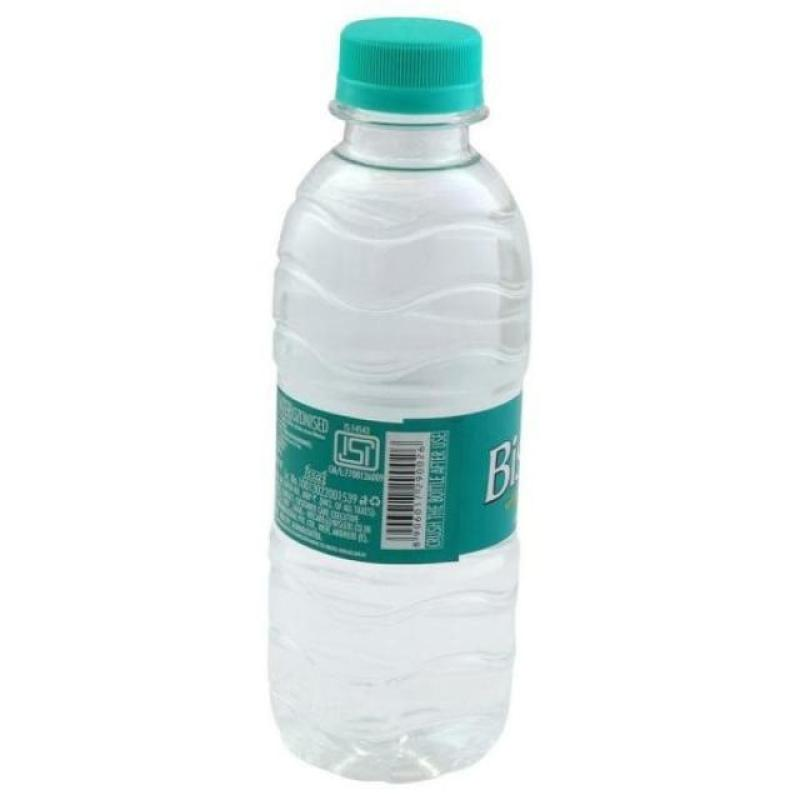botella: (261, 15, 533, 785)
